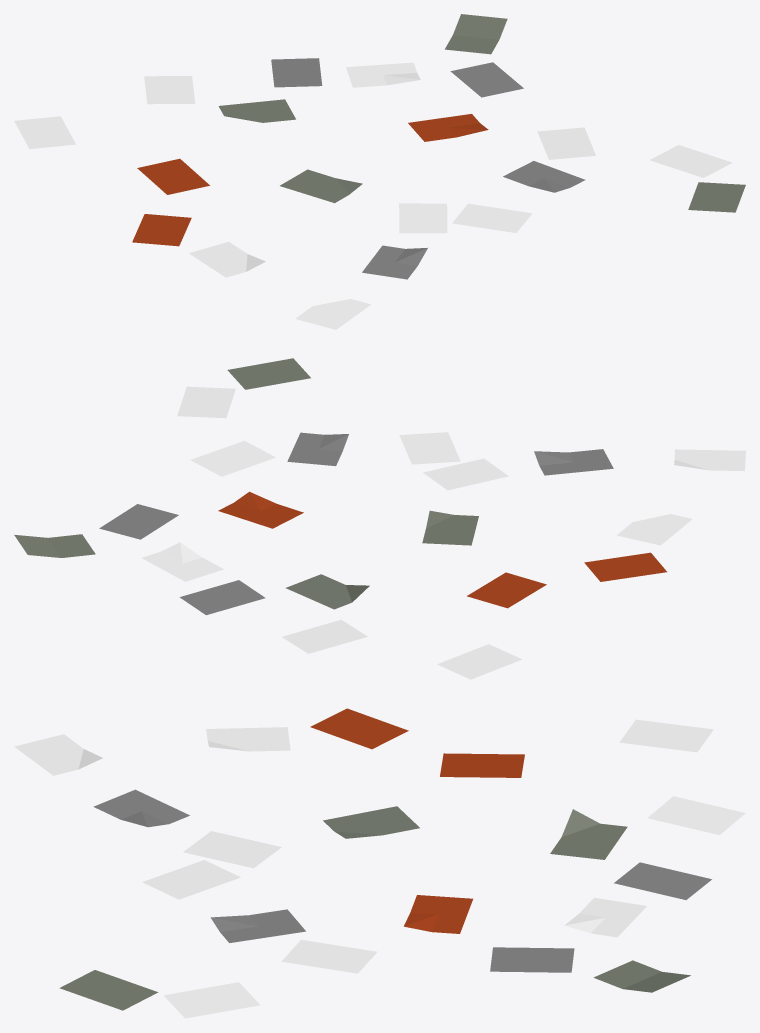
File: Papers_01.fbx
The picture shows the model from 3 angles, top to bottom: view 1: azimuth 30°, elevation 25°; view 2: azimuth 150°, elevation 25°; view 3: azimuth 270°, elevation 25°; orthographic projection. The views are drawn at different scales.
Parts seen in each view (by area): view 1: Papers_01; view 2: Papers_01; view 3: Papers_01.
Boxes of the visible parts, left/top/right/bottom form: Papers_01: left=14, top=14, right=745, bottom=329; Papers_01: left=14, top=358, right=745, bottom=679; Papers_01: left=14, top=708, right=745, bottom=1018.
Size of the model in its own units: 269 by 4.98 by 269.
Materials: 1 (1 with a texture image).
